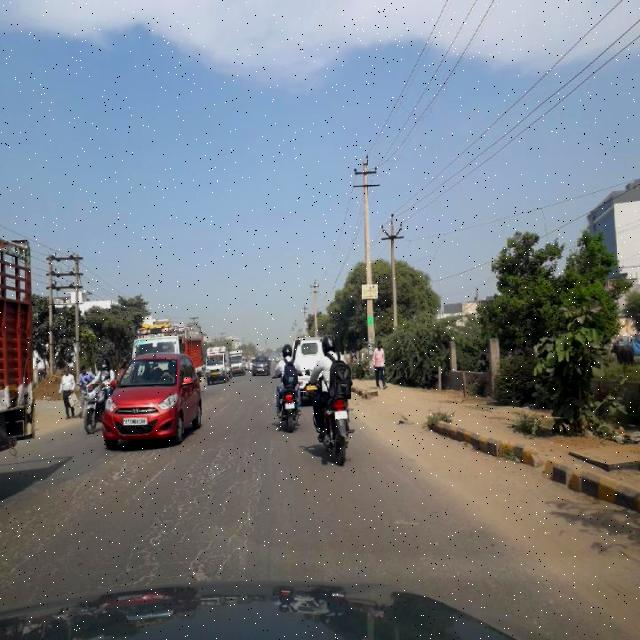D00: (130, 452, 266, 578), (1, 445, 122, 569)
